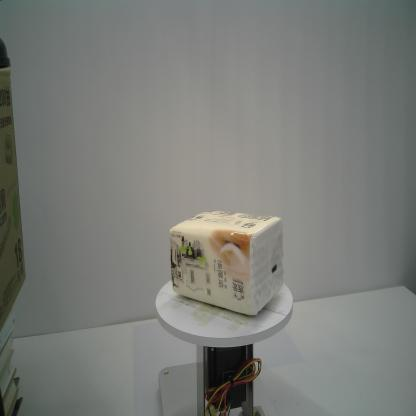Tissue: (169, 209, 285, 316)
